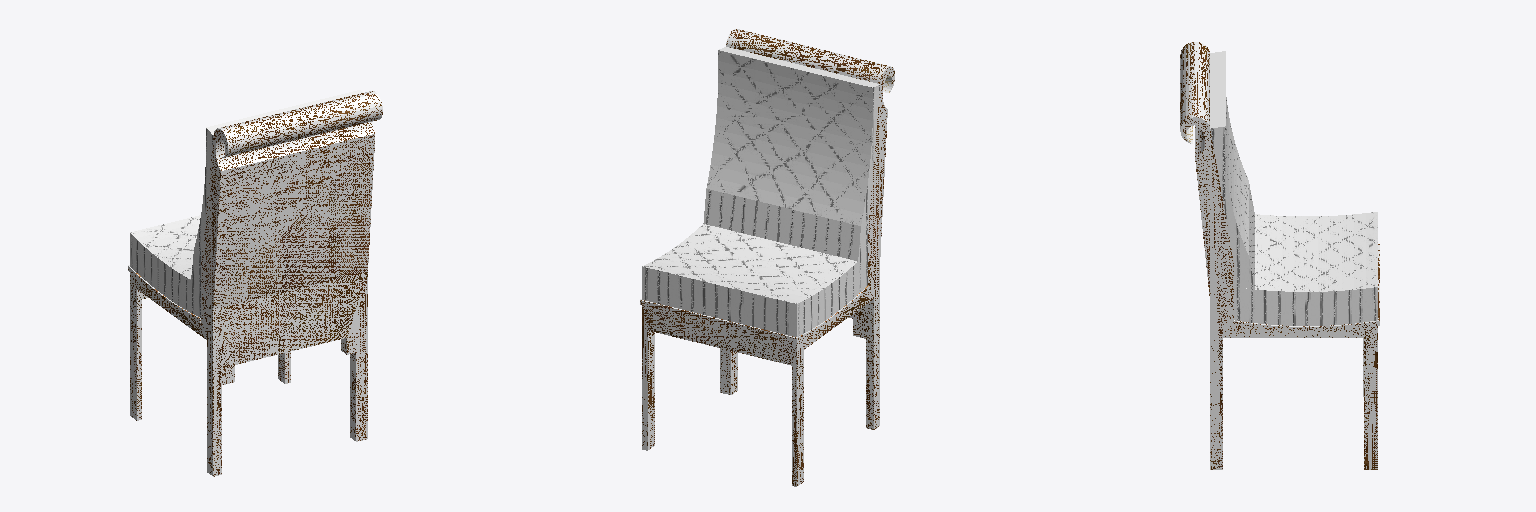
3 views of the same model, side by side, from view 1: azimuth 30°, elevation 25°; view 2: azimuth 150°, elevation 25°; view 3: azimuth 270°, elevation 25° (orthographic).
Parts seen in each view (by area): view 1: mesh1_mesh1-geometry; view 2: mesh1_mesh1-geometry; view 3: mesh1_mesh1-geometry.
Boxes of the visible parts, x1,y1,x2,y2 form: mesh1_mesh1-geometry: [128, 90, 382, 476]; mesh1_mesh1-geometry: [640, 29, 894, 486]; mesh1_mesh1-geometry: [1180, 42, 1379, 469].
Size of the model in its own units: 0.3837 by 0.8221 by 0.4207.
7 materials, 4 textured.